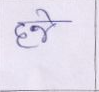e_matra: (37, 8, 55, 20)
